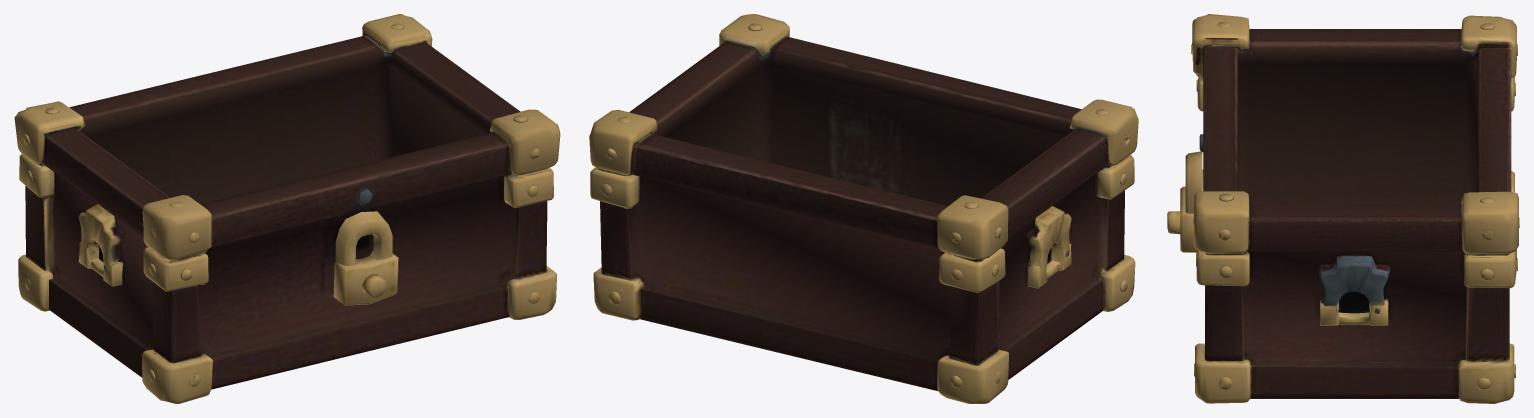
Rendered from chest_bottom.glb.
3 renders of one model, left to right at view 1: azimuth 30°, elevation 25°; view 2: azimuth 150°, elevation 25°; view 3: azimuth 270°, elevation 25°, orthographic. The views are drawn at different scales.
Visible parts, largest first — view 1: ChestBottom; view 2: ChestBottom; view 3: ChestBottom.
Boxes of the visible parts, x1,y1,x2,y2 form: ChestBottom: (14,14,560,403); ChestBottom: (589,14,1138,403); ChestBottom: (1167,14,1519,403).
Bounding box in the file's own units: 0.998 × 0.4551 × 0.7441.
Materials: 1 (1 with a texture image).
